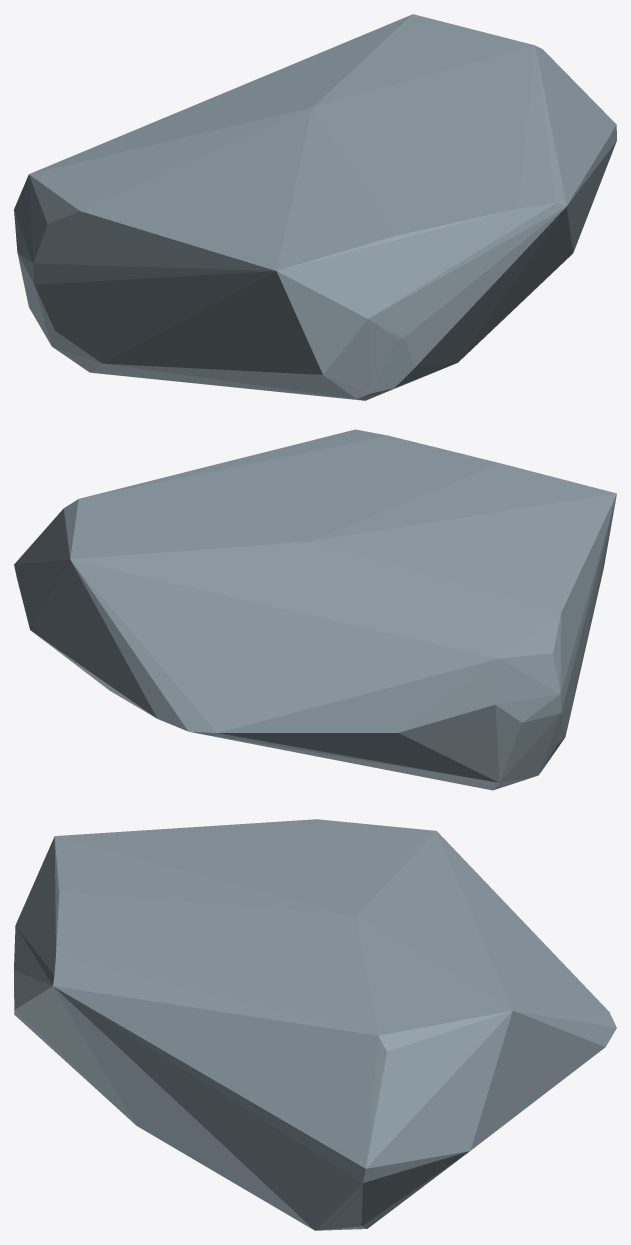
File: equipment_airCompressor_a01.glb
3 renders of one model, top to bottom at view 1: azimuth 30°, elevation 25°; view 2: azimuth 150°, elevation 25°; view 3: azimuth 270°, elevation 25°, orthographic. The views are drawn at different scales.
Parts seen in each view (by area): view 1: geometry_0; view 2: geometry_0; view 3: geometry_0.
Boxes of the visible parts, x1=… form: geometry_0: x1=14, y1=14, x2=616, y2=400; geometry_0: x1=14, y1=429, x2=616, y2=790; geometry_0: x1=14, y1=819, x2=616, y2=1230.
Bounding box in the file's own units: 0.48 × 0.1614 × 0.4195.
